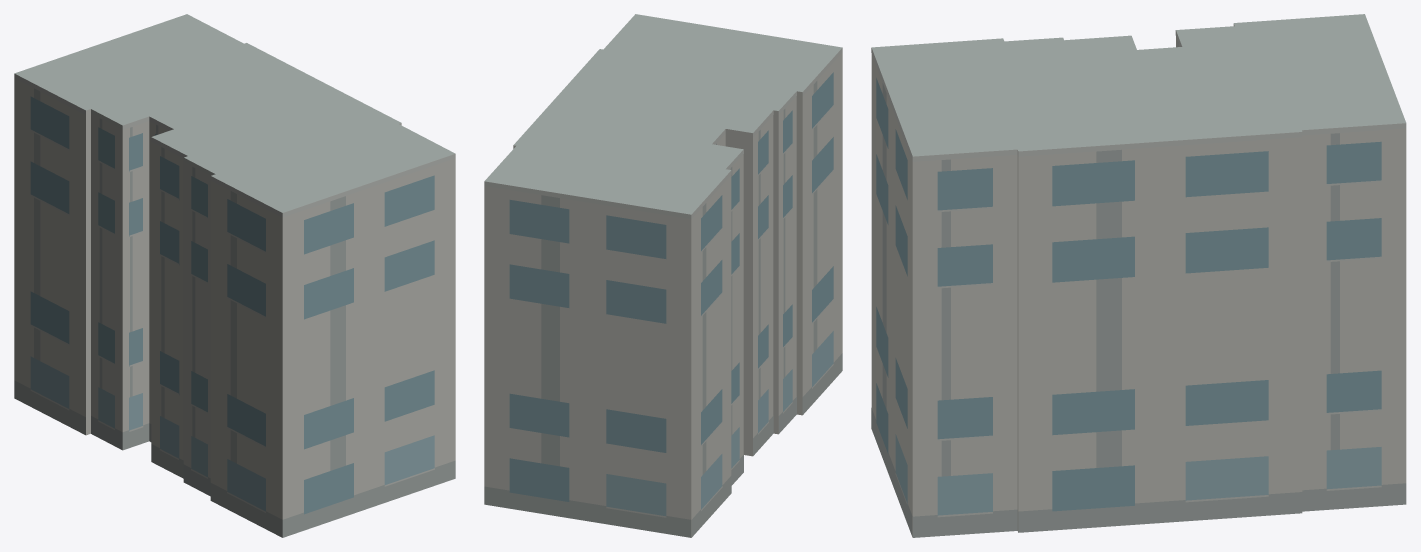
The model's file is survey-upis-32968413.glb.
3 renders of one model, left to right at view 1: azimuth 30°, elevation 25°; view 2: azimuth 150°, elevation 25°; view 3: azimuth 270°, elevation 25°, orthographic. The views are drawn at different scales.
Visible parts, largest first — view 1: survey-upis-32968413.tmp; view 2: survey-upis-32968413.tmp; view 3: survey-upis-32968413.tmp.
Boxes of the visible parts, x1=… form: survey-upis-32968413.tmp: x1=14, y1=14, x2=455, y2=537; survey-upis-32968413.tmp: x1=484, y1=14, x2=842, y2=537; survey-upis-32968413.tmp: x1=871, y1=14, x2=1406, y2=537.
Size of the model in its own units: 13.68 by 17.05 by 21.69.
